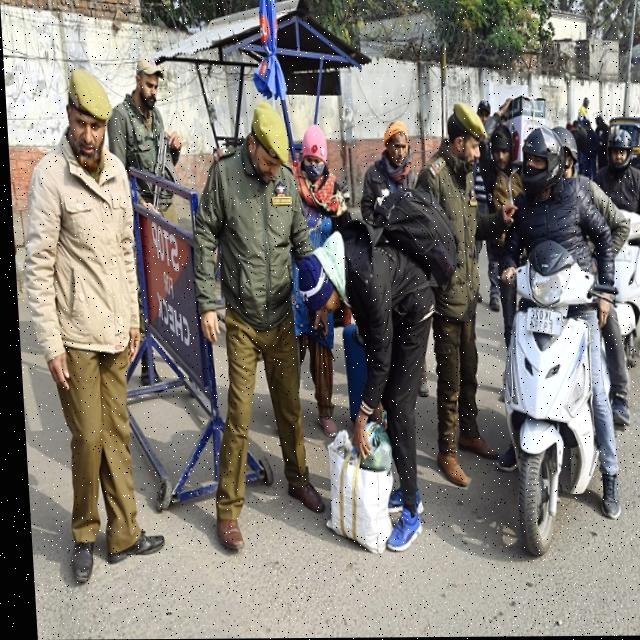plate: (517, 301, 562, 342)
